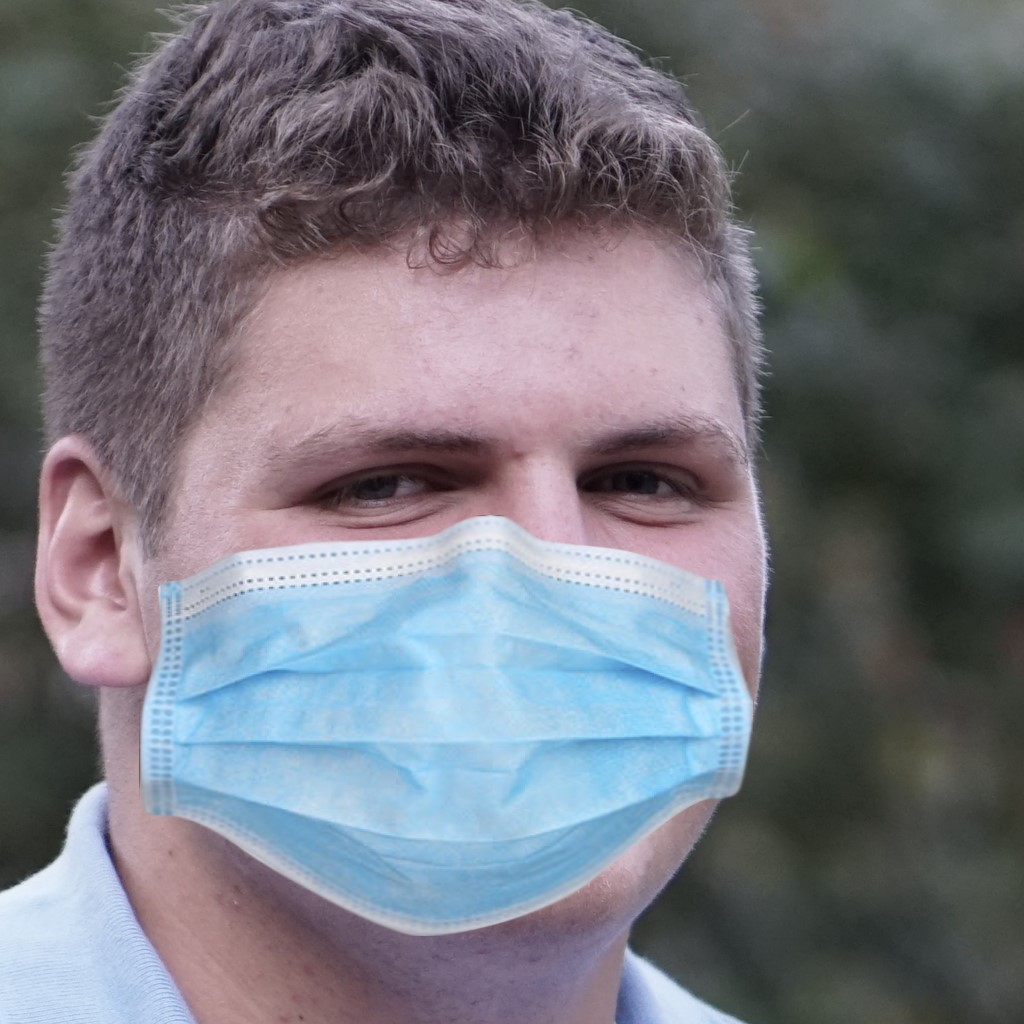con_mascara: (86, 121, 758, 926)
